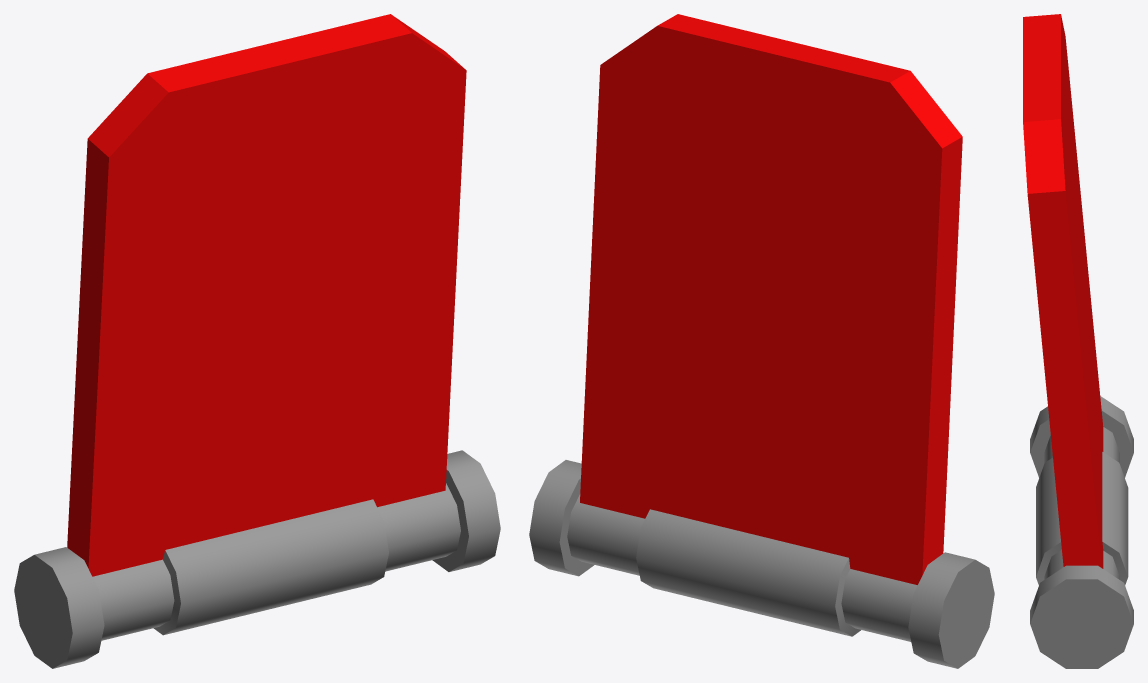
File: M_weapon_scope4_mod.FBX
3 views of the same model, side by side, from view 1: azimuth 30°, elevation 25°; view 2: azimuth 150°, elevation 25°; view 3: azimuth 270°, elevation 25° (orthographic). The views are drawn at different scales.
Parts seen in each view (by area): view 1: Object031; view 2: Object031; view 3: Object031.
Boxes of the visible parts, bbox=[...] form: Object031: bbox=[14, 14, 500, 668]; Object031: bbox=[529, 14, 994, 668]; Object031: bbox=[1023, 14, 1133, 668].
Size of the model in its own units: 10.15 by 2.57 by 13.04.
